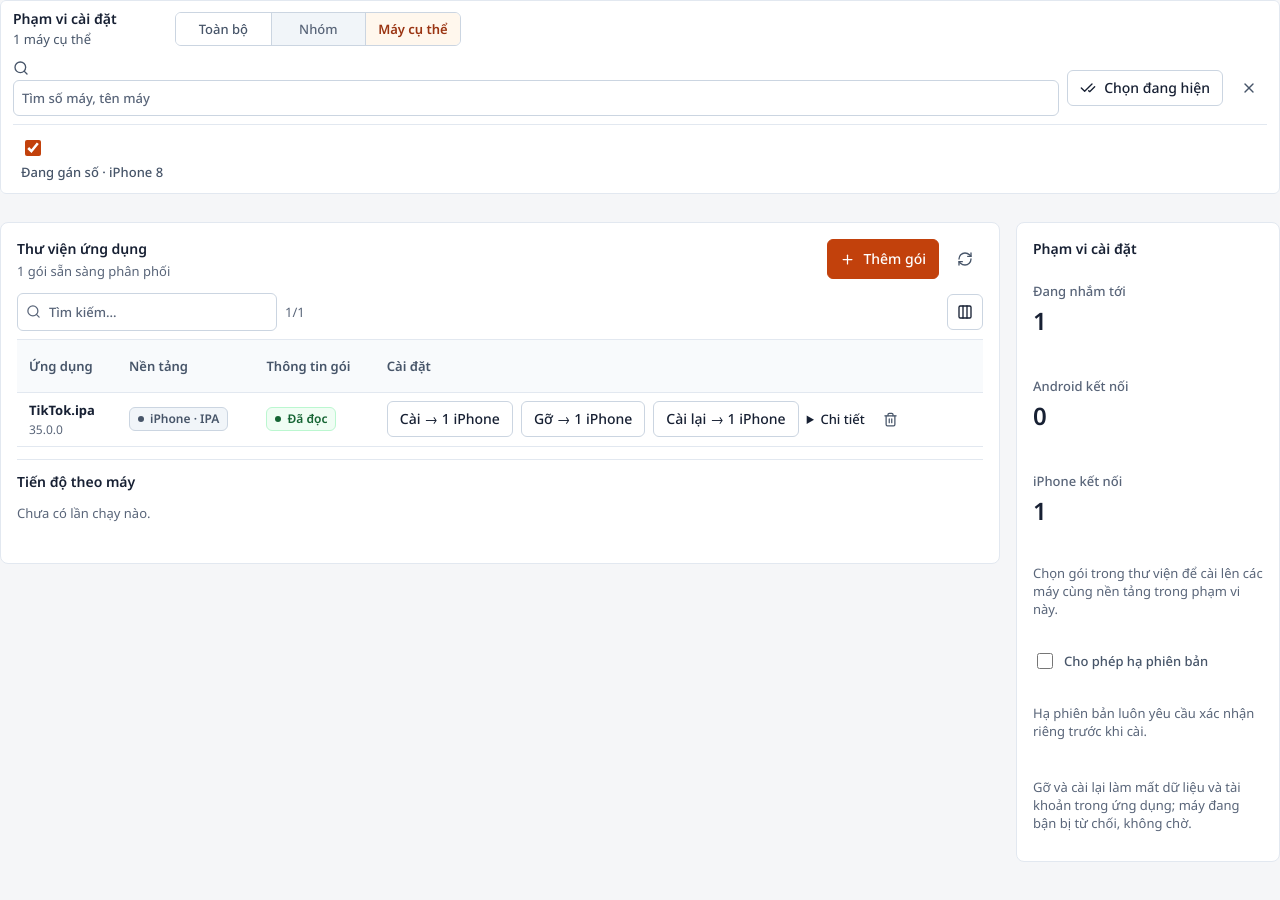
AppsPage install targets › requires explicit confirmation before requesting downgrade and renders typed outcomes
Click the checkbox labelled "Cho phép hạ phiên bản": (1045, 661) top-left (1037, 653), bottom-right (1053, 669)
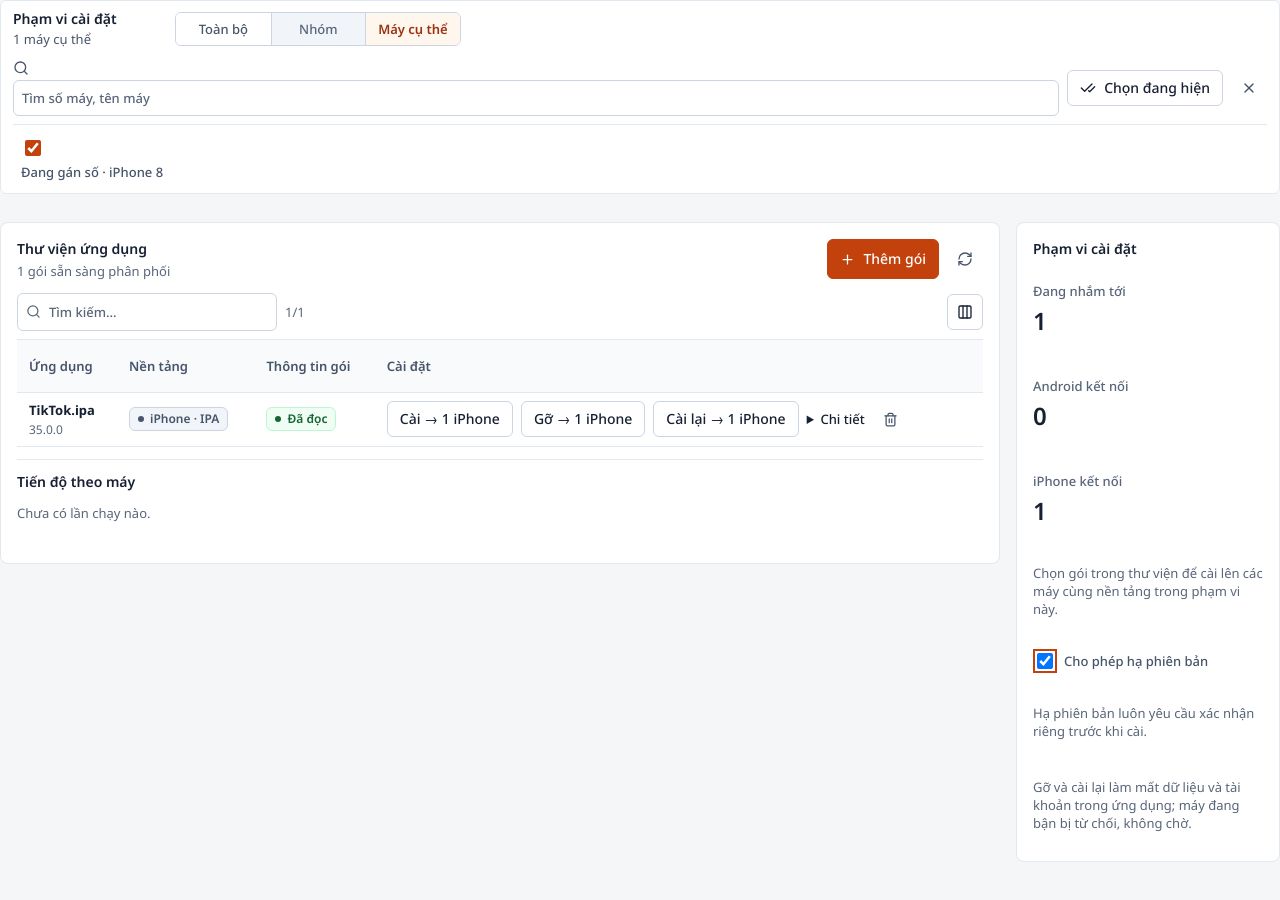
Click the button "Cài → 1 iPhone": (450, 419) top-left (387, 401), bottom-right (513, 437)
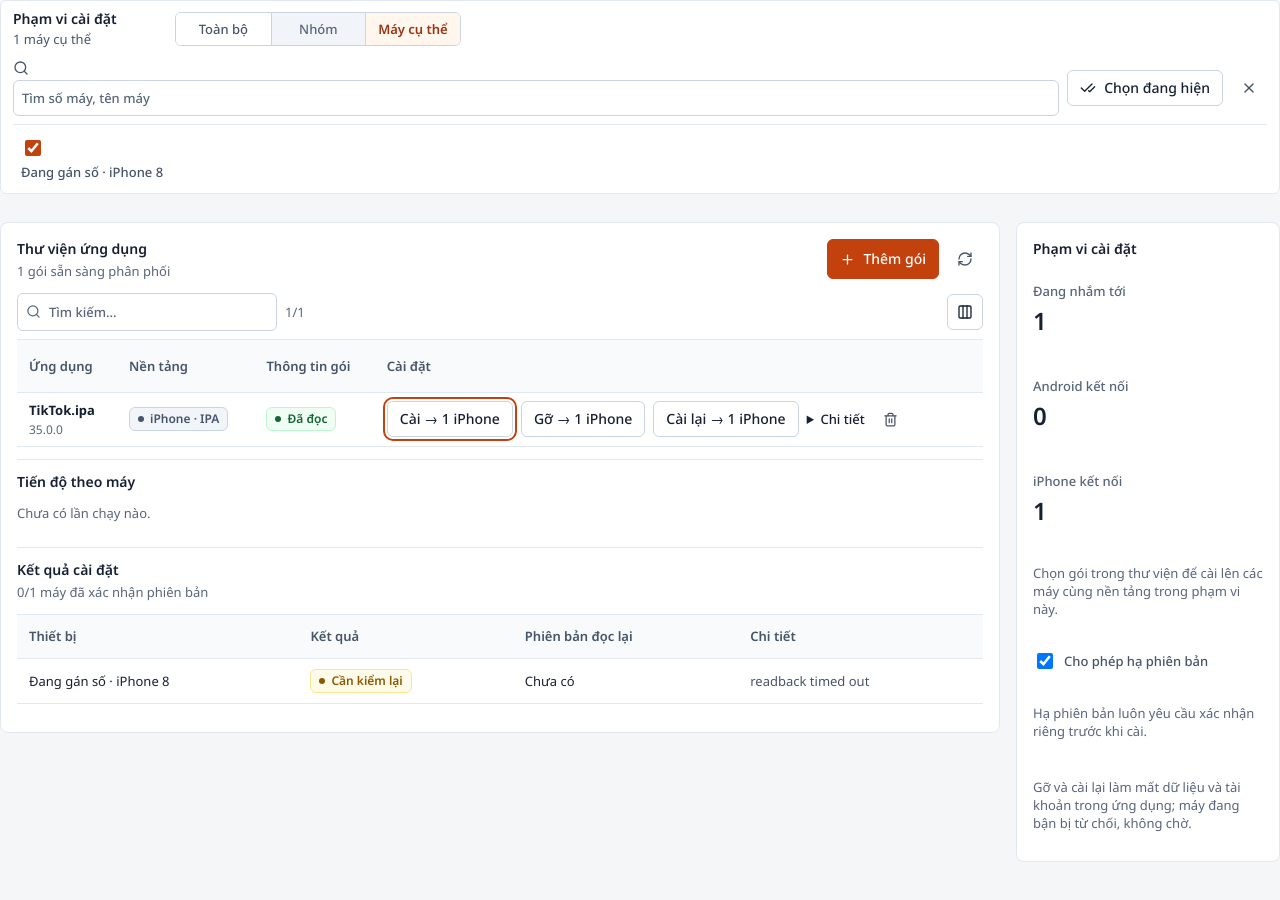
Expected: the text "Cần kiểm lại" is shown, top-left (310, 669), bottom-right (412, 693)
Expected: the text "readback timed out" is shown, top-left (750, 672), bottom-right (869, 690)
